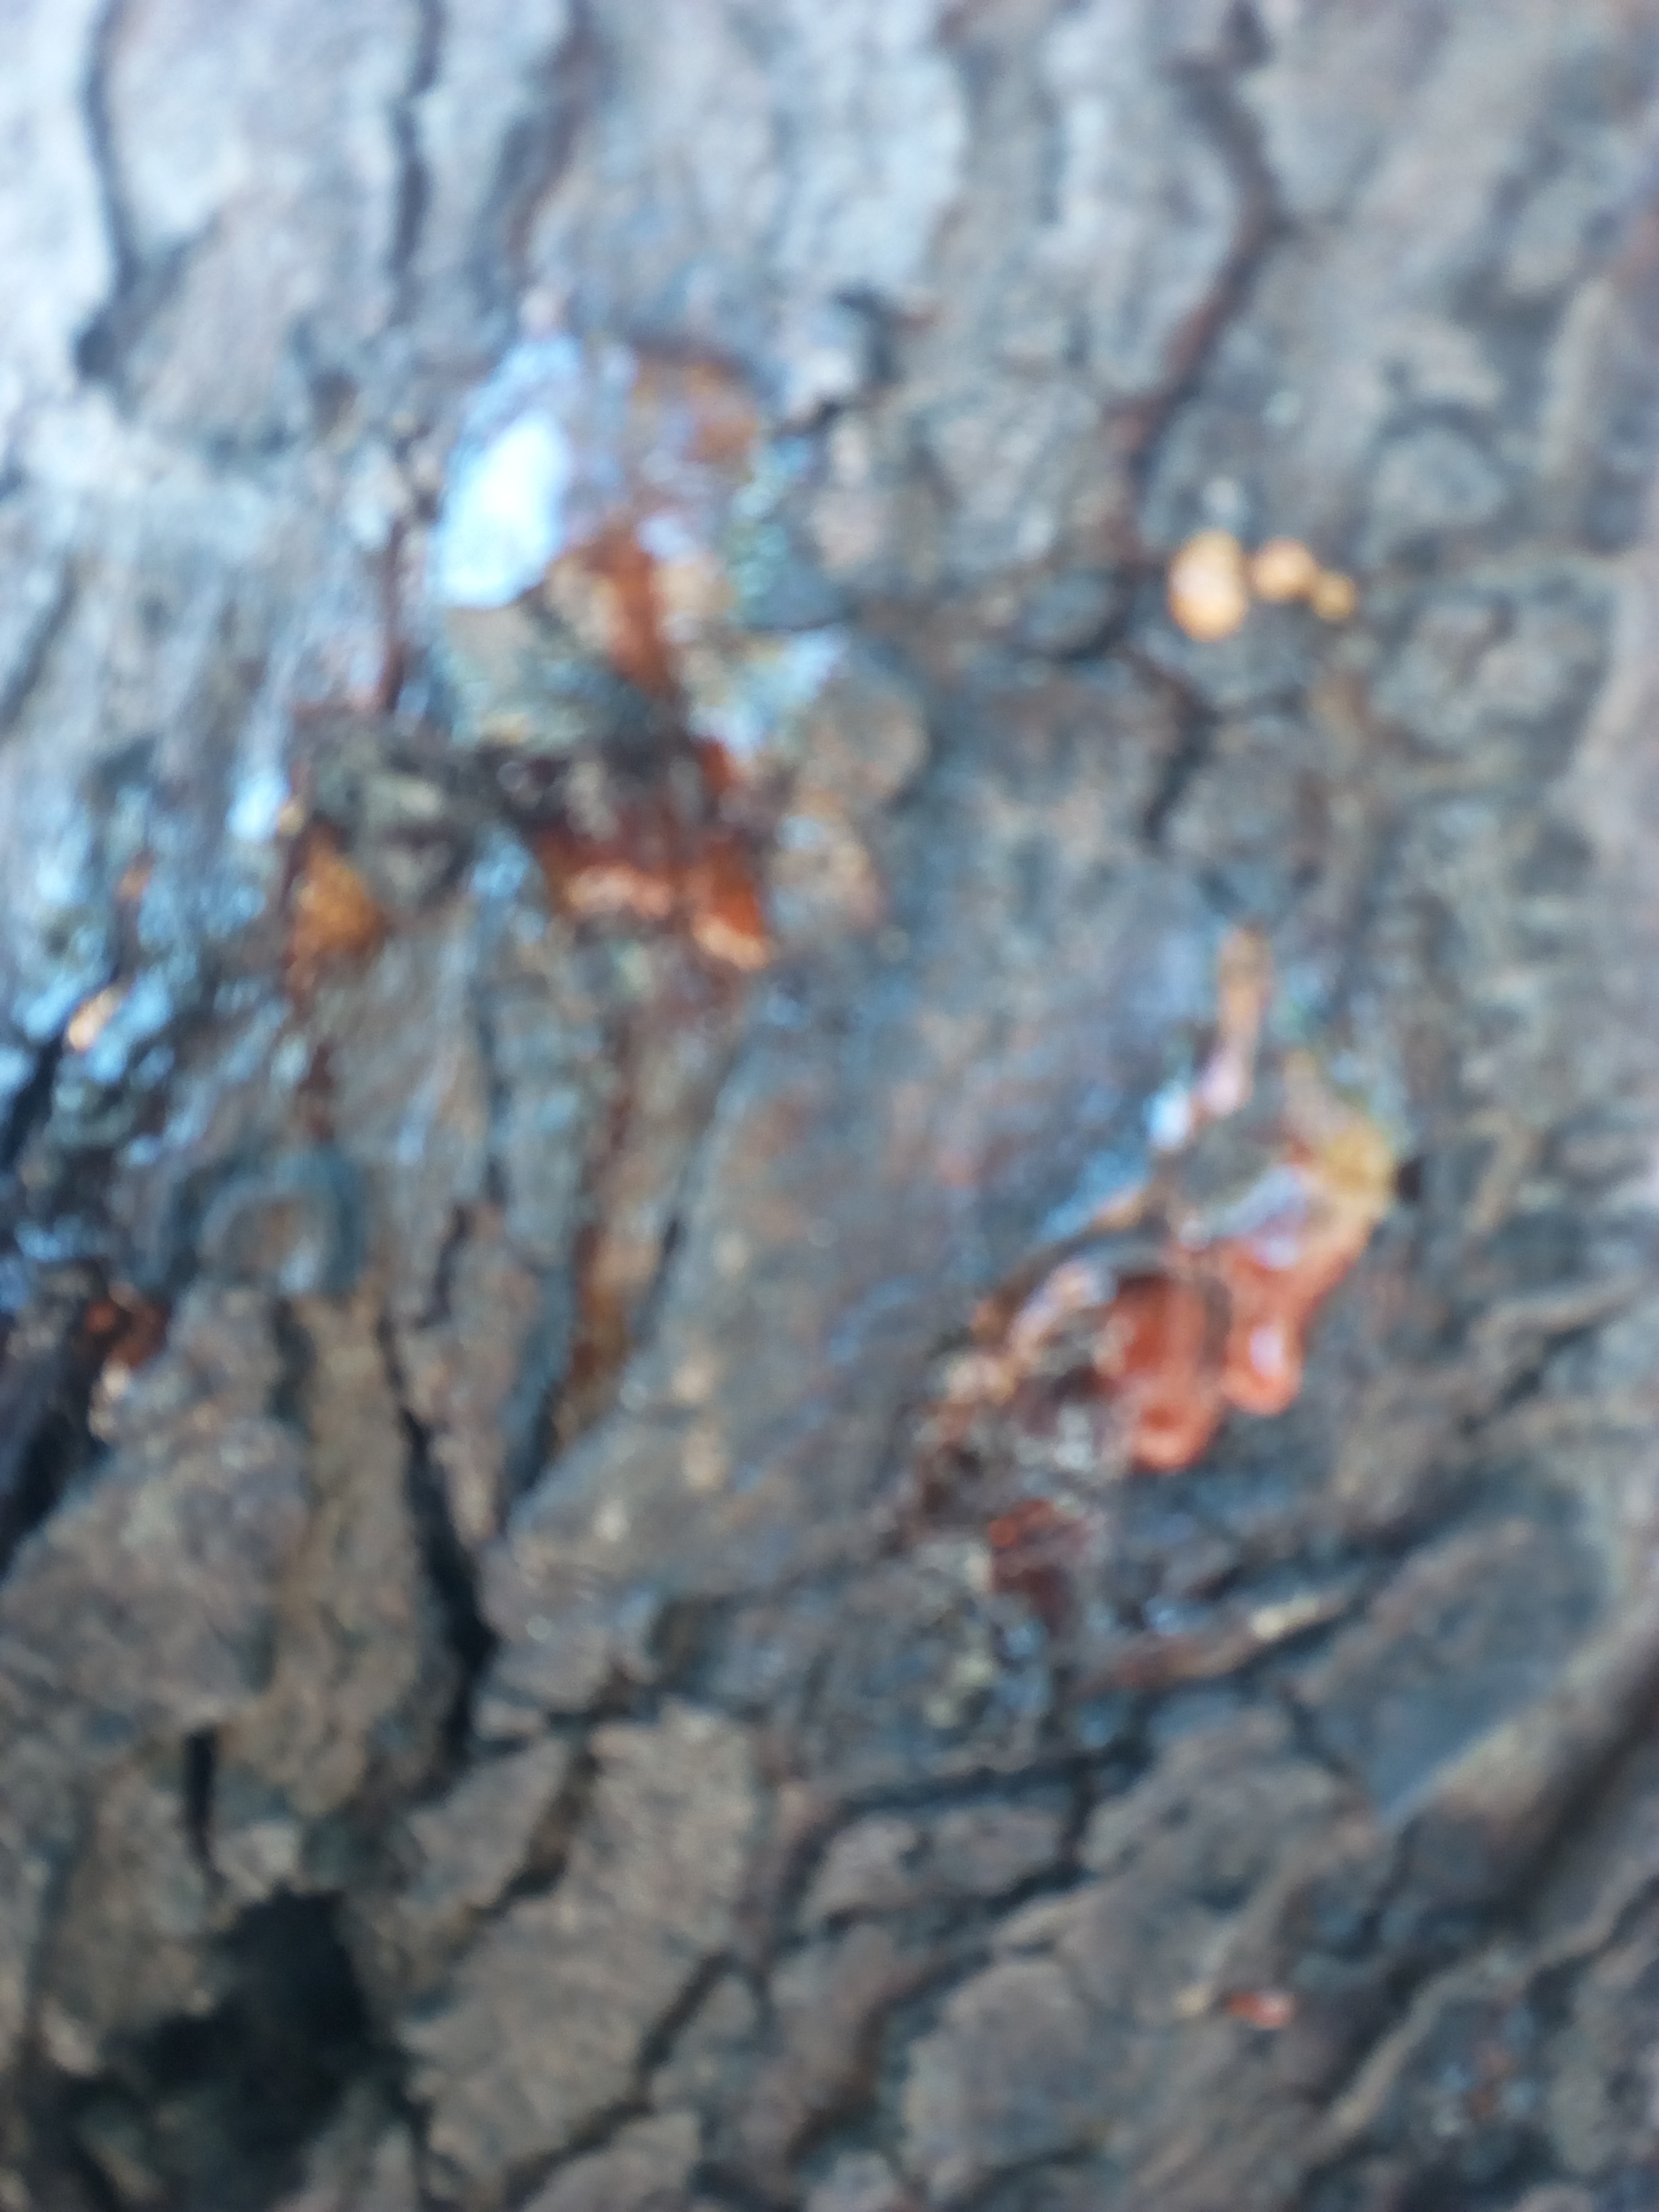Gommose: (51, 317, 1453, 1632)
